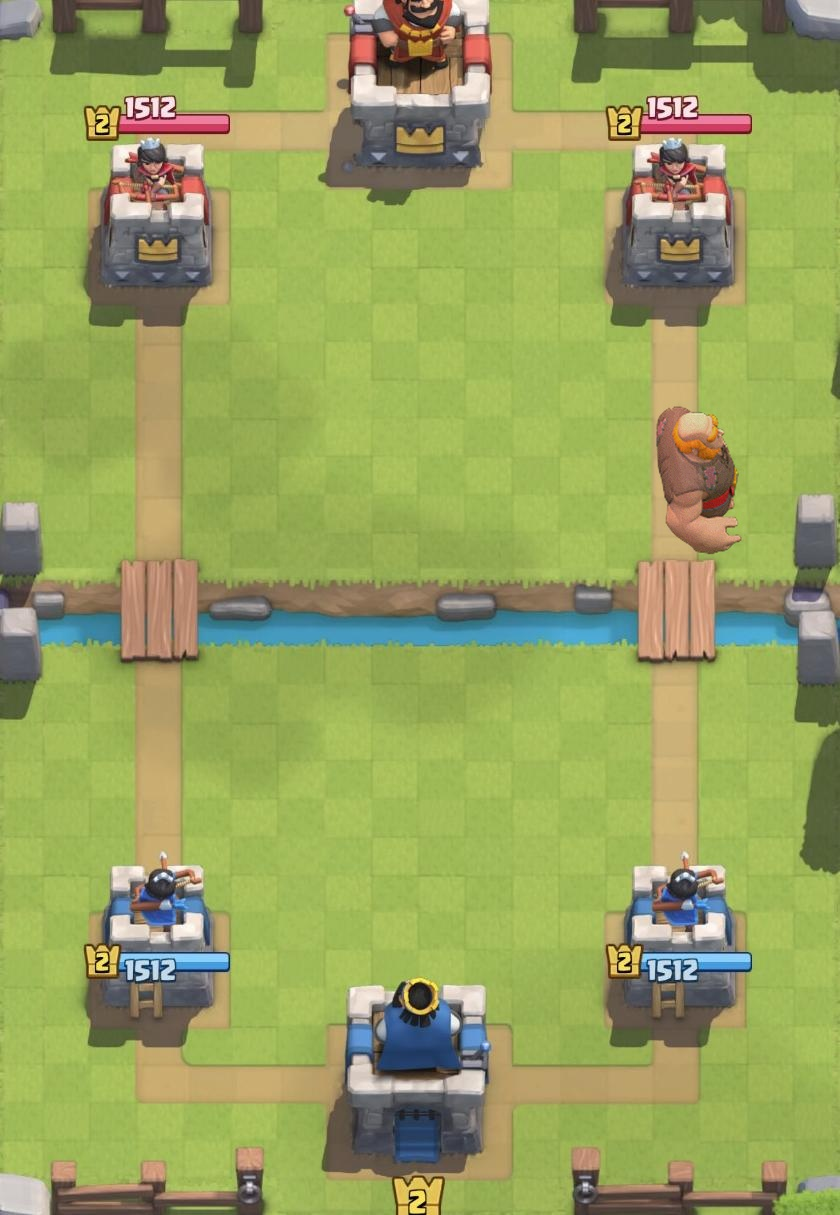giant_enemy: (656, 406, 742, 555)
